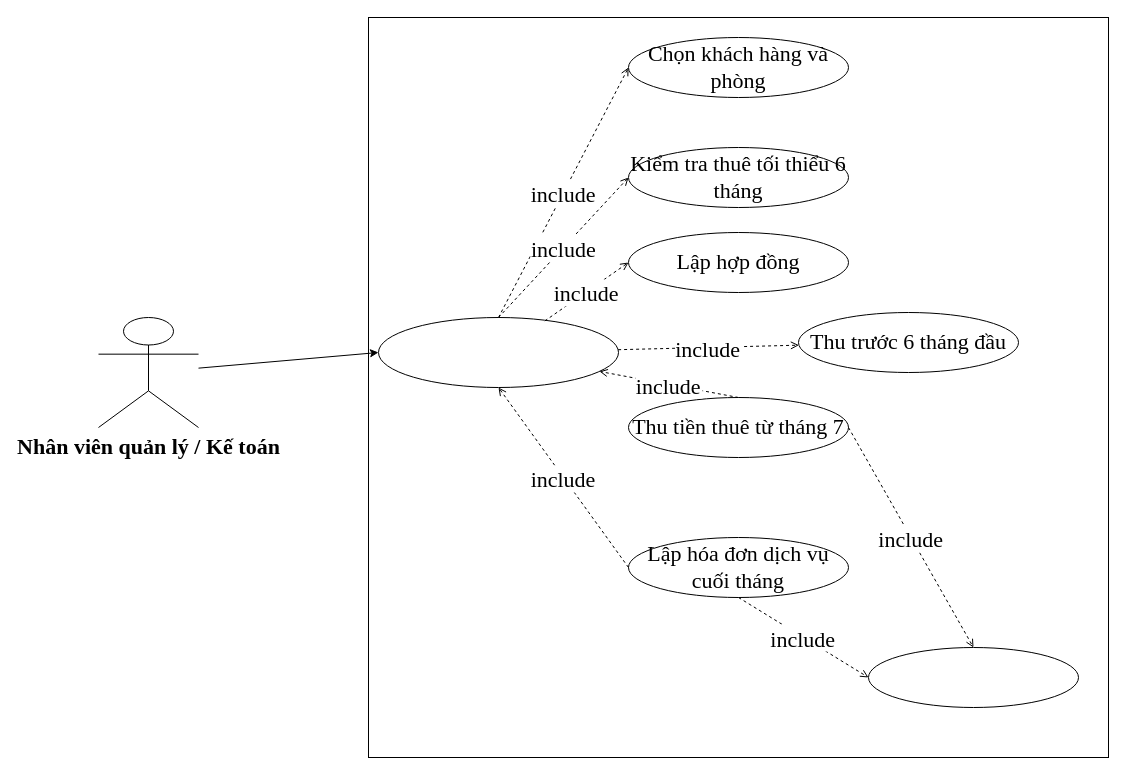
Image size: 1126x775. Some labels were removed from this diagram. The shapes that lost their labels are listed below. From the top down, each one's box as (x1, y1, x2, y2) in pixels, then its label:
(378, 316, 618, 388): Quản lý thuê và thanh toán
(868, 646, 1078, 708): Ghi nhận thanh toán
